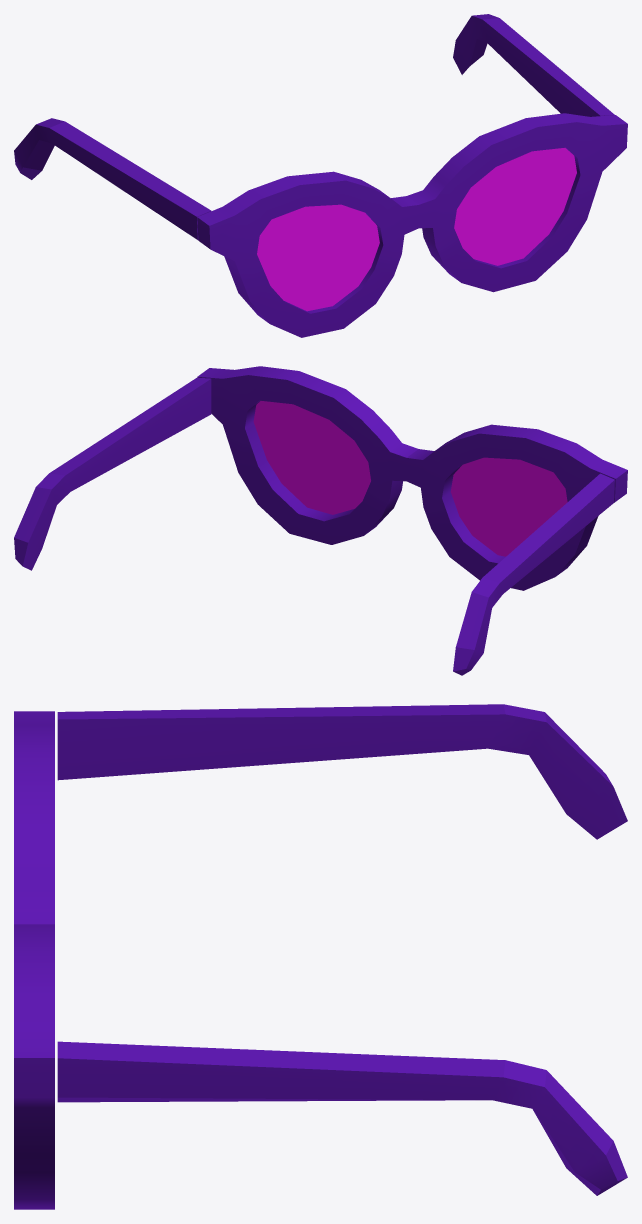
The model's file is Eyewear_10.fbx.
3 views of the same model, one above another, from view 1: azimuth 30°, elevation 25°; view 2: azimuth 150°, elevation 25°; view 3: azimuth 270°, elevation 25° (orthographic). The views are drawn at different scales.
Visible parts, largest first — view 1: Eyewear_10; view 2: Eyewear_10; view 3: Eyewear_10.
Boxes of the visible parts, box(x1,y1,x2,y2) form: Eyewear_10: box(14, 14, 627, 337); Eyewear_10: box(14, 366, 627, 675); Eyewear_10: box(14, 704, 627, 1209).
Bounding box in the file's own units: 54.68 × 17.52 × 37.19.
